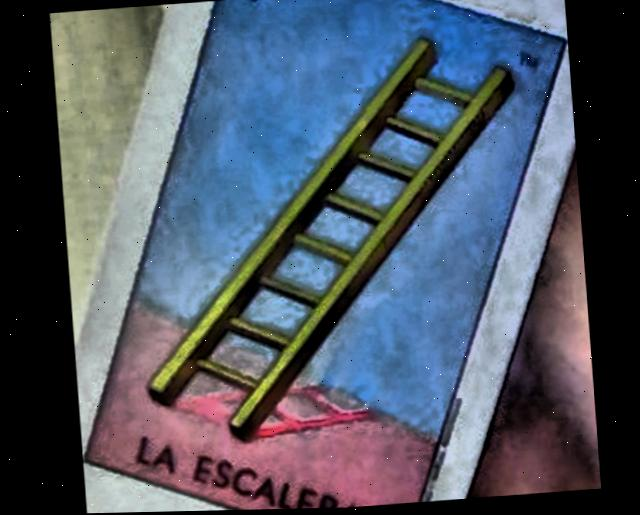La Escalera: (84, 0, 566, 511)
